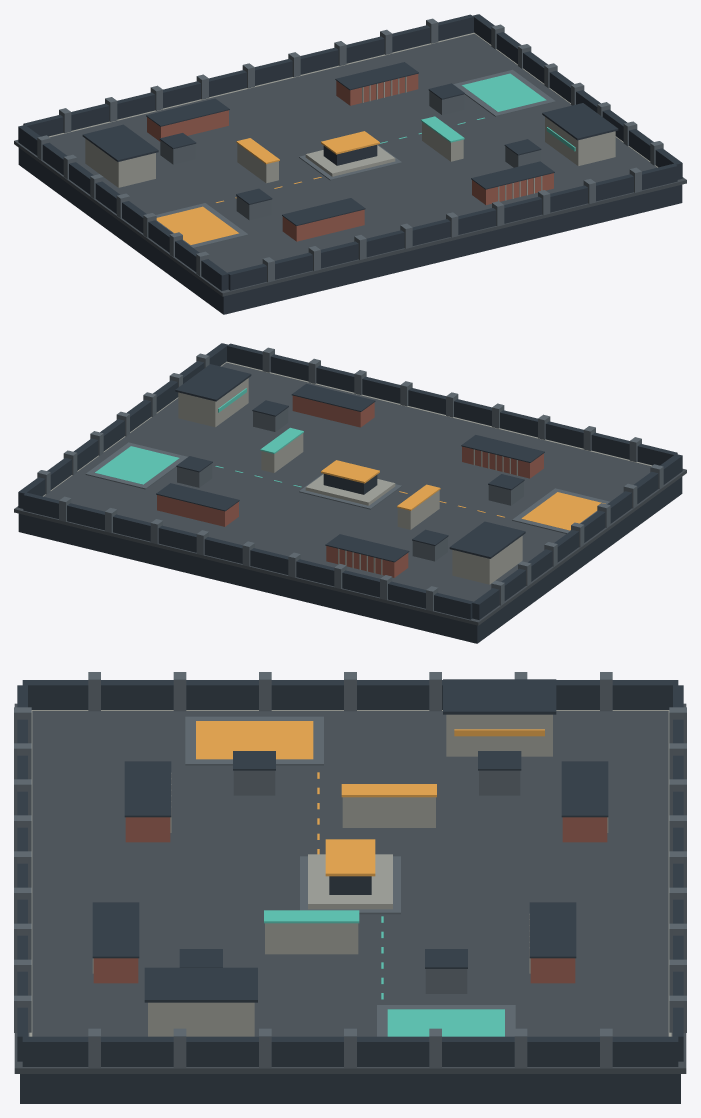
The model's file is depot.glb.
The picture shows the model from 3 angles, top to bottom: view 1: azimuth 30°, elevation 25°; view 2: azimuth 150°, elevation 25°; view 3: azimuth 270°, elevation 25°; orthographic projection. The views are drawn at different scales.
Parts seen in each view (by area): view 1: Depot deck, Perimeter walls, Cyan wing, Amber wing, Central loading island; view 2: Depot deck, Perimeter walls, Cyan wing, Amber wing, Central loading island; view 3: Depot deck, Perimeter walls, Amber wing, Cyan wing, Central loading island.
Boxes of the visible parts, x1,y1,x2,y2 form: Depot deck: [14, 32, 686, 314]; Perimeter walls: [18, 14, 682, 290]; Cyan wing: [335, 62, 618, 204]; Amber wing: [82, 98, 365, 248]; Central loading island: [299, 131, 401, 180]; Depot deck: [14, 361, 686, 643]; Perimeter walls: [18, 343, 682, 619]; Cyan wing: [85, 364, 375, 526]; Amber wing: [325, 435, 609, 584]; Central loading island: [299, 460, 401, 509]; Depot deck: [14, 703, 686, 1103]; Perimeter walls: [14, 672, 686, 1067]; Amber wing: [124, 679, 608, 854]; Cyan wing: [92, 902, 576, 1036]; Central loading island: [300, 839, 400, 914].
Size of the model in its own units: 81 by 8.7 by 63.15.
